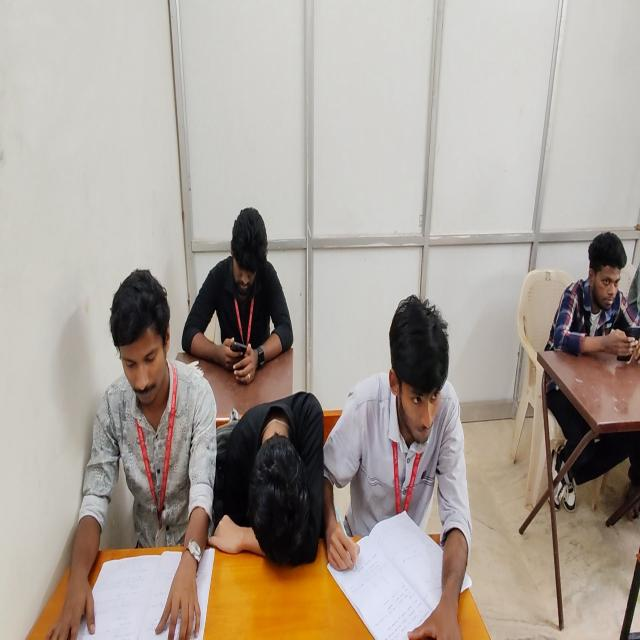listening: (45, 269, 219, 640)
sleeping: (215, 391, 323, 565)
using_mobile: (541, 228, 640, 516), (181, 206, 295, 382)
writing: (328, 295, 466, 640)
